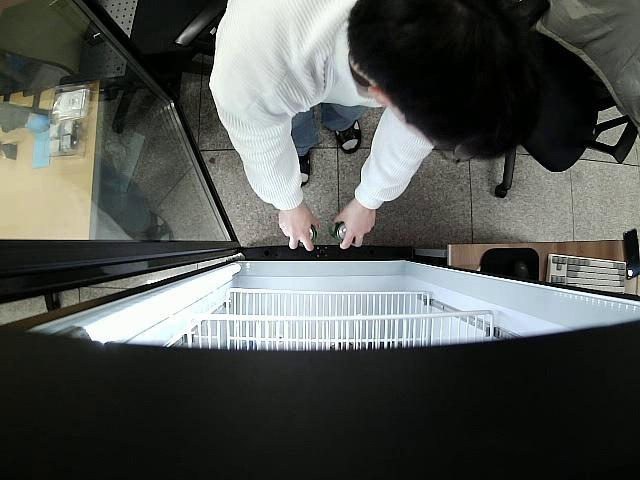12_chilsungCider: (329, 220, 356, 246), (310, 225, 317, 243)
